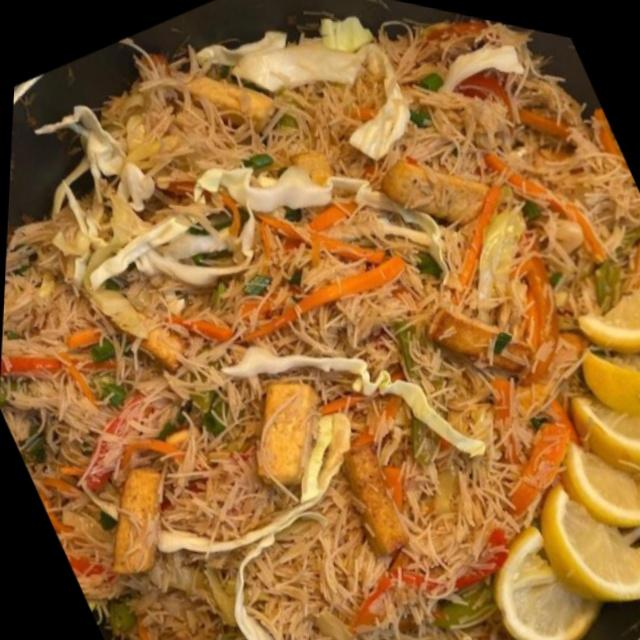pancit bihon: (0, 13, 639, 639)
